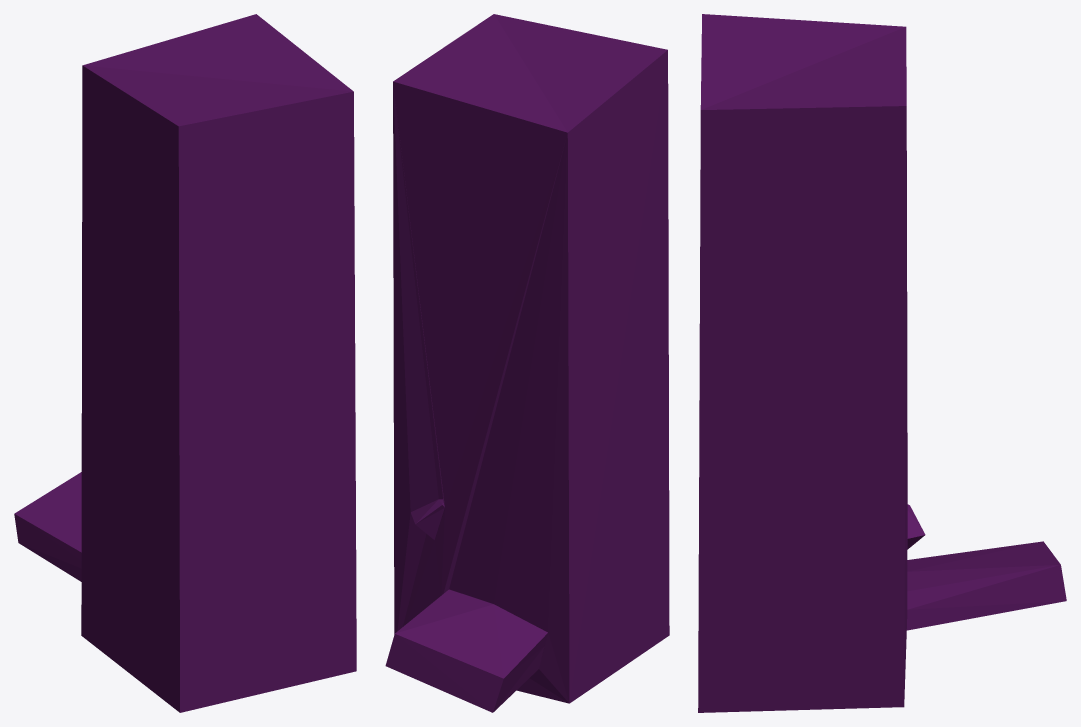
3 renders of one model, left to right at view 1: azimuth 30°, elevation 25°; view 2: azimuth 150°, elevation 25°; view 3: azimuth 270°, elevation 25°, orthographic. The views are drawn at different scales.
Parts seen in each view (by area): view 1: 408_Cube.1657; view 2: 408_Cube.1657; view 3: 408_Cube.1657.
Part boxes in pixels (bbox=[...]): 408_Cube.1657: bbox=[14, 14, 356, 712]; 408_Cube.1657: bbox=[385, 14, 669, 712]; 408_Cube.1657: bbox=[698, 14, 1066, 712].
Bounding box in the file's own units: 3.83 × 12.16 × 6.66.
